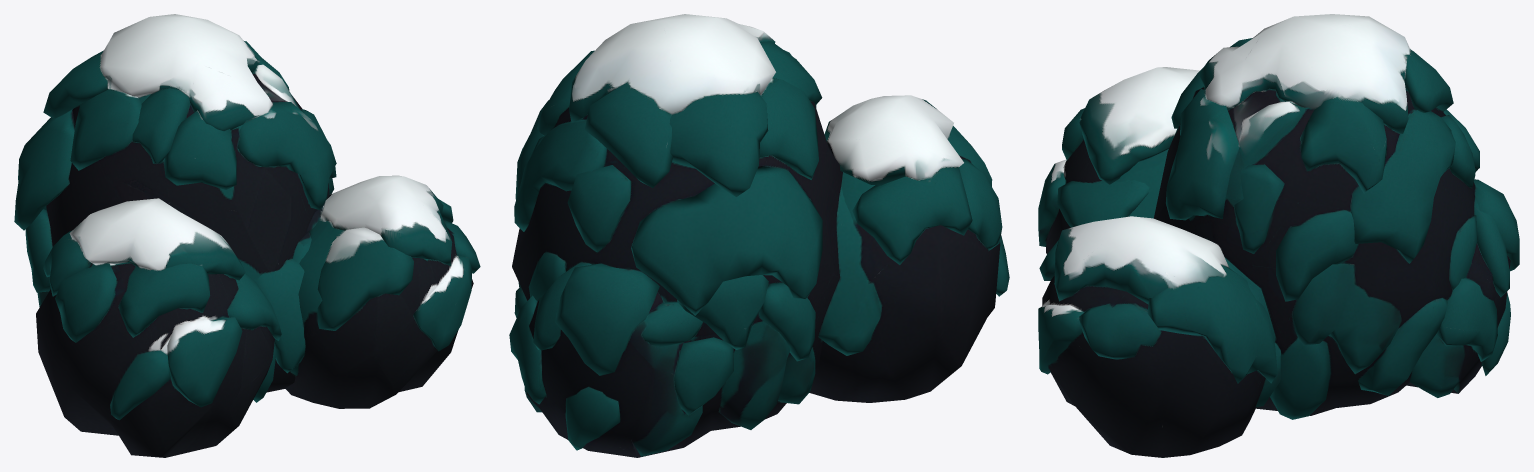
File: vegetation_cluster.glb
3 renders of one model, left to right at view 1: azimuth 30°, elevation 25°; view 2: azimuth 150°, elevation 25°; view 3: azimuth 270°, elevation 25°, orthographic. The views are drawn at different scales.
Bounding box in the file's own units: 1 × 0.8066 × 1.
Materials: 1 (1 with a texture image).
